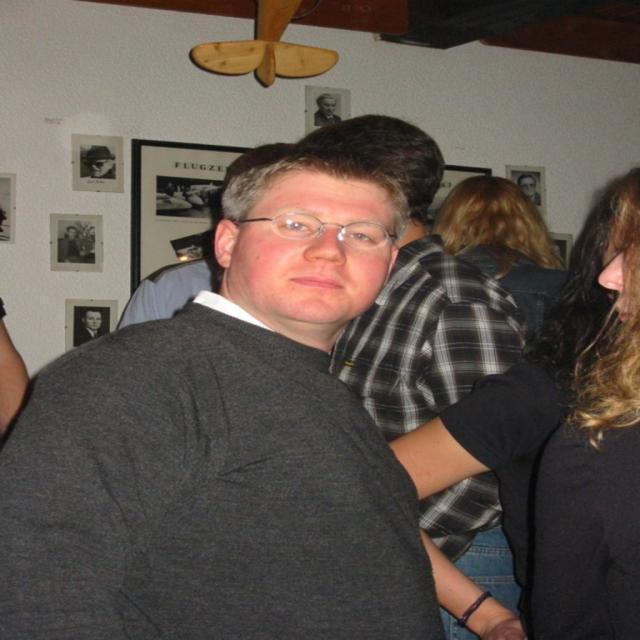closed-mouth: (288, 273, 348, 292)
